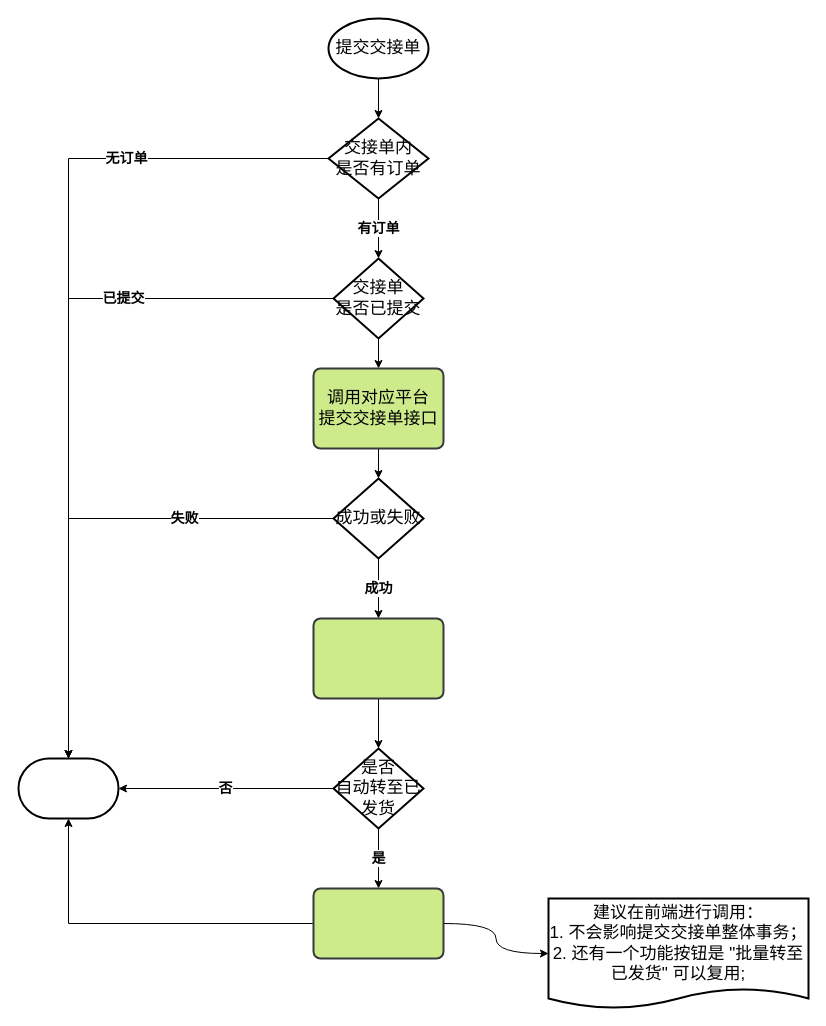
The diagram is 826 pixels wide and 1026 high, and some of its shapes have lost their labels. The shapes that lost their labels are listed below. From the top down, each one's box as (x1, y1, x2, y2) in pixels, then its label:
(312, 617, 444, 699): 更新交接单记录 更新订单记录
(17, 757, 119, 819): 结束
(312, 887, 444, 959): 调用将订单转为 已发货状态接口
